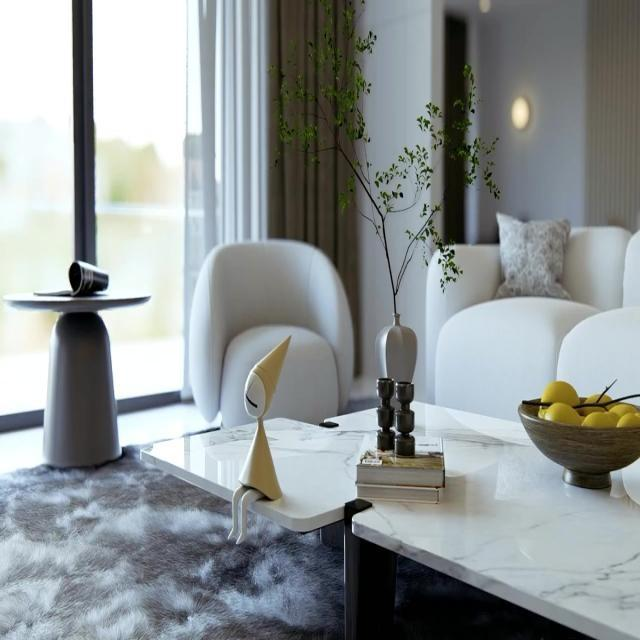obstacle: (140, 399, 640, 638), (423, 223, 639, 423), (188, 237, 377, 428), (2, 290, 152, 468)
